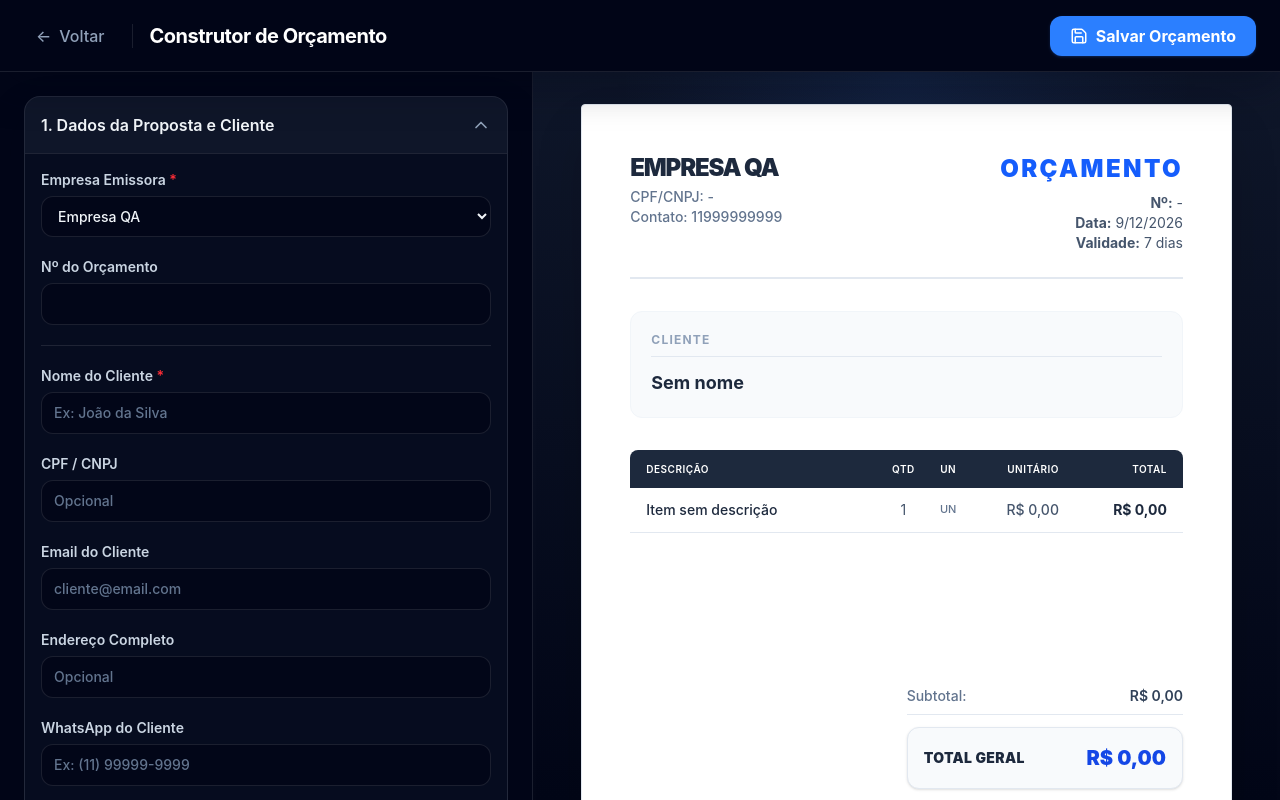
Test: BudgetPage validation flows › blocks saving when quantity is zero
Step 1. Type "Cliente QA" into the field labelled "Nome do Cliente *" → (266, 413), box [41,392,491,434]
(page scrolled)
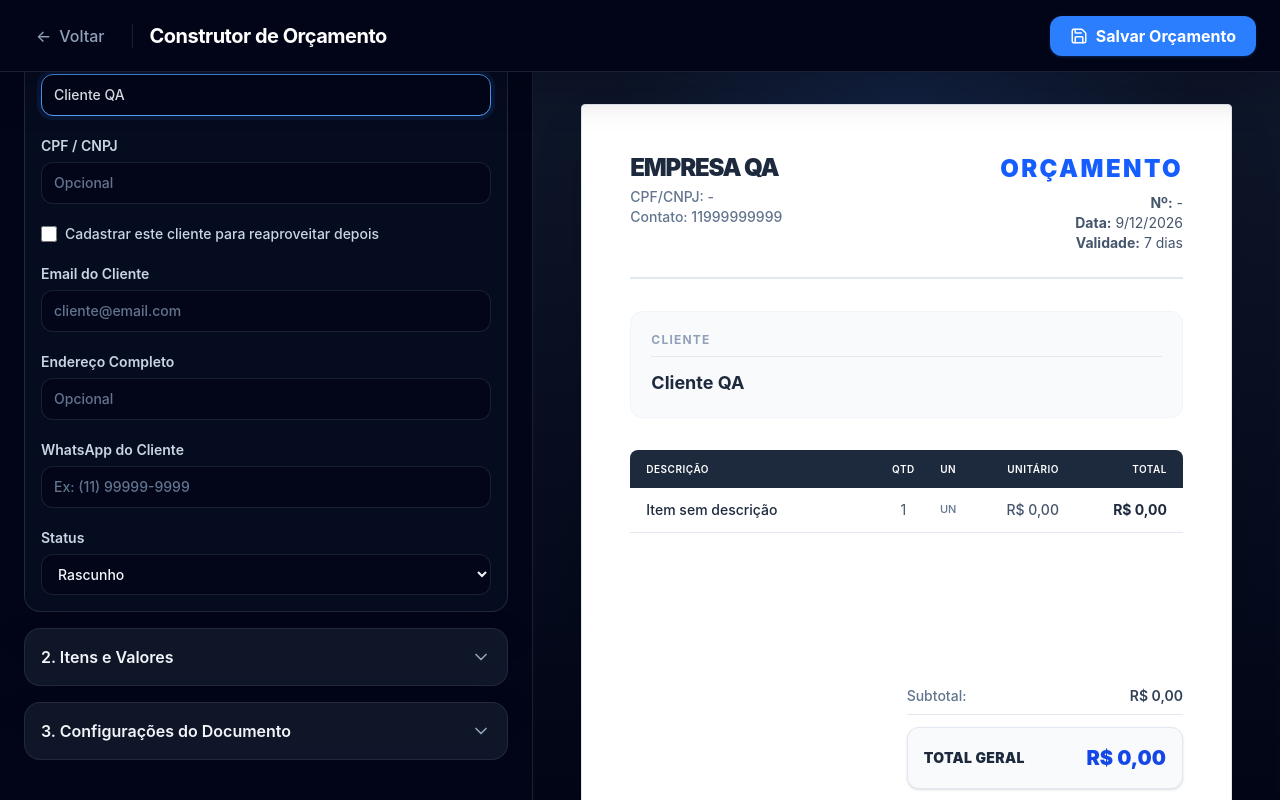
Step 2. Click the button "2. Itens e Valores" → (107, 657), box [25,629,507,685]
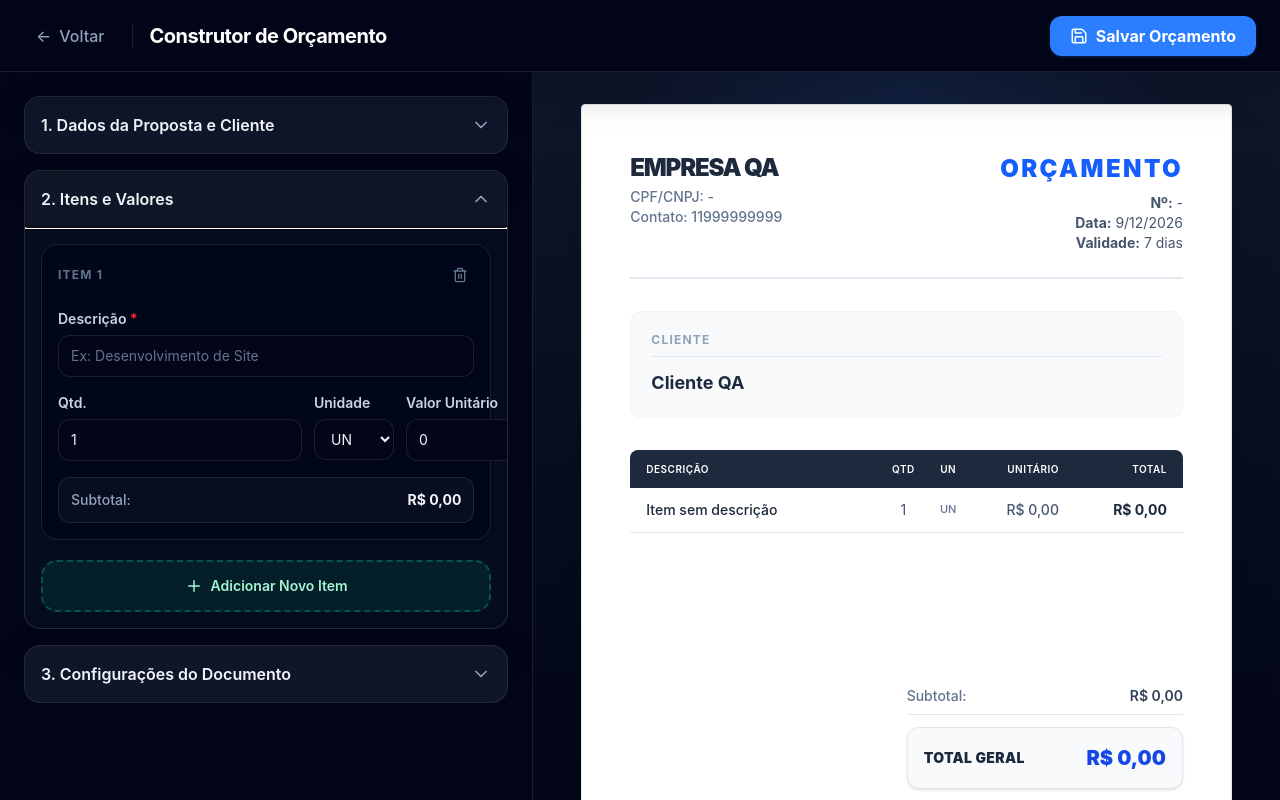
Step 3. Type "Servico essencial" into the field with placeholder "Ex: Desenvolvimento de Site" → (266, 356), box [58,335,474,377]
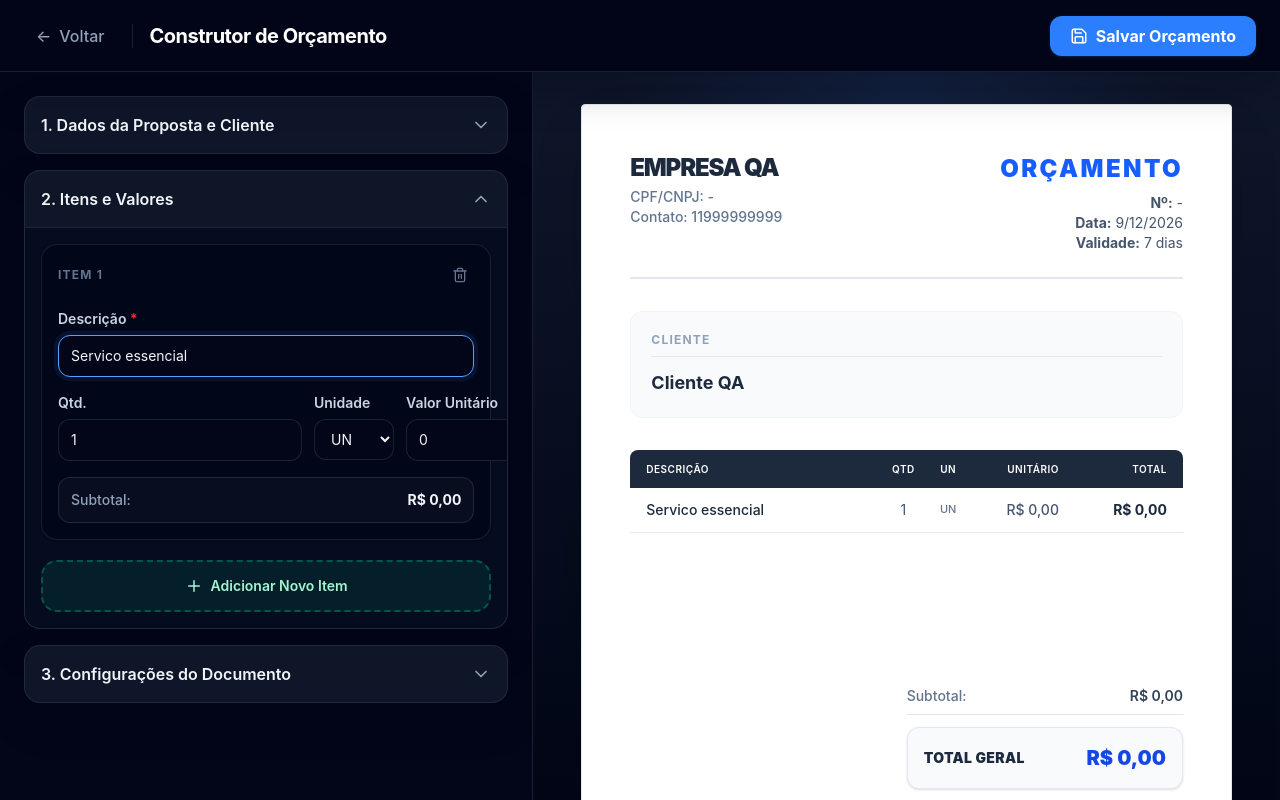
Step 4. Replace the text in the number field labelled "Qtd." with "0" → (180, 440), box [58,419,302,461]
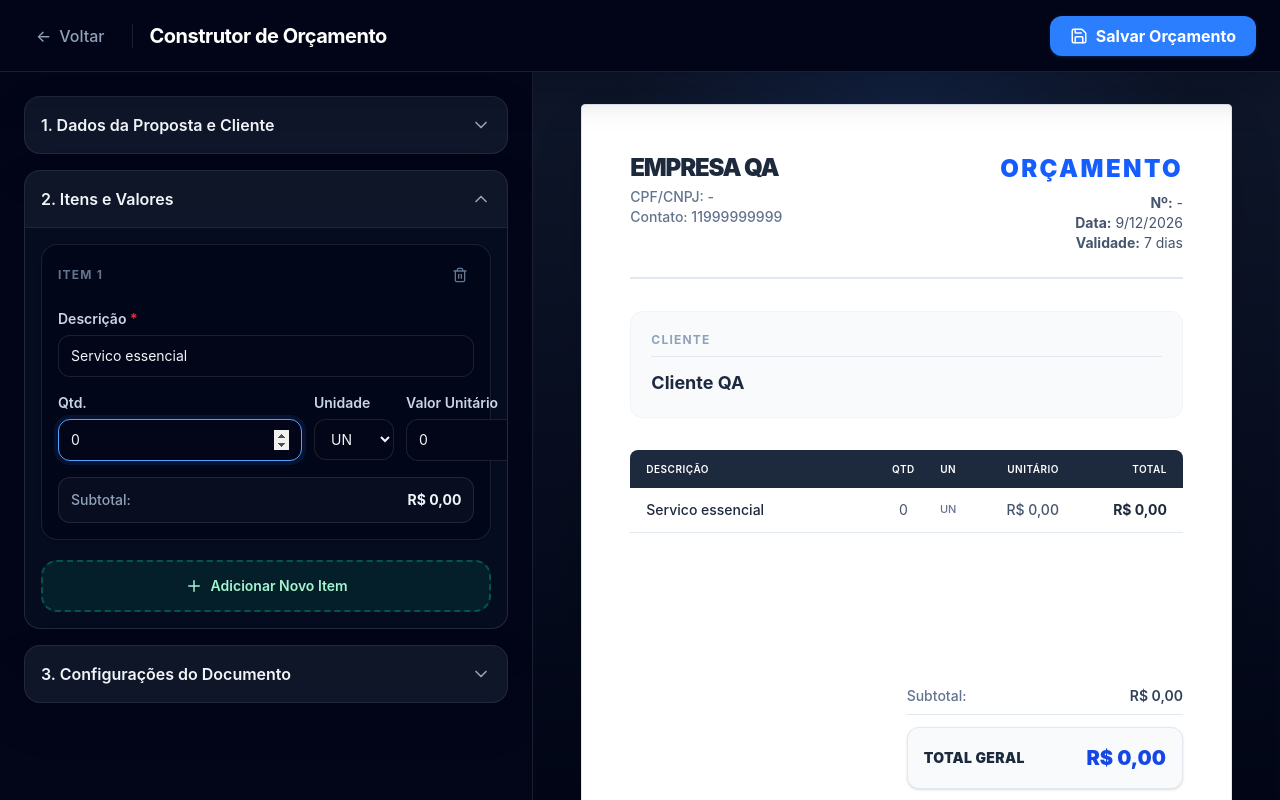
Step 5. Click the button "Salvar Orçamento" → (1153, 36), box [1050,16,1256,56]
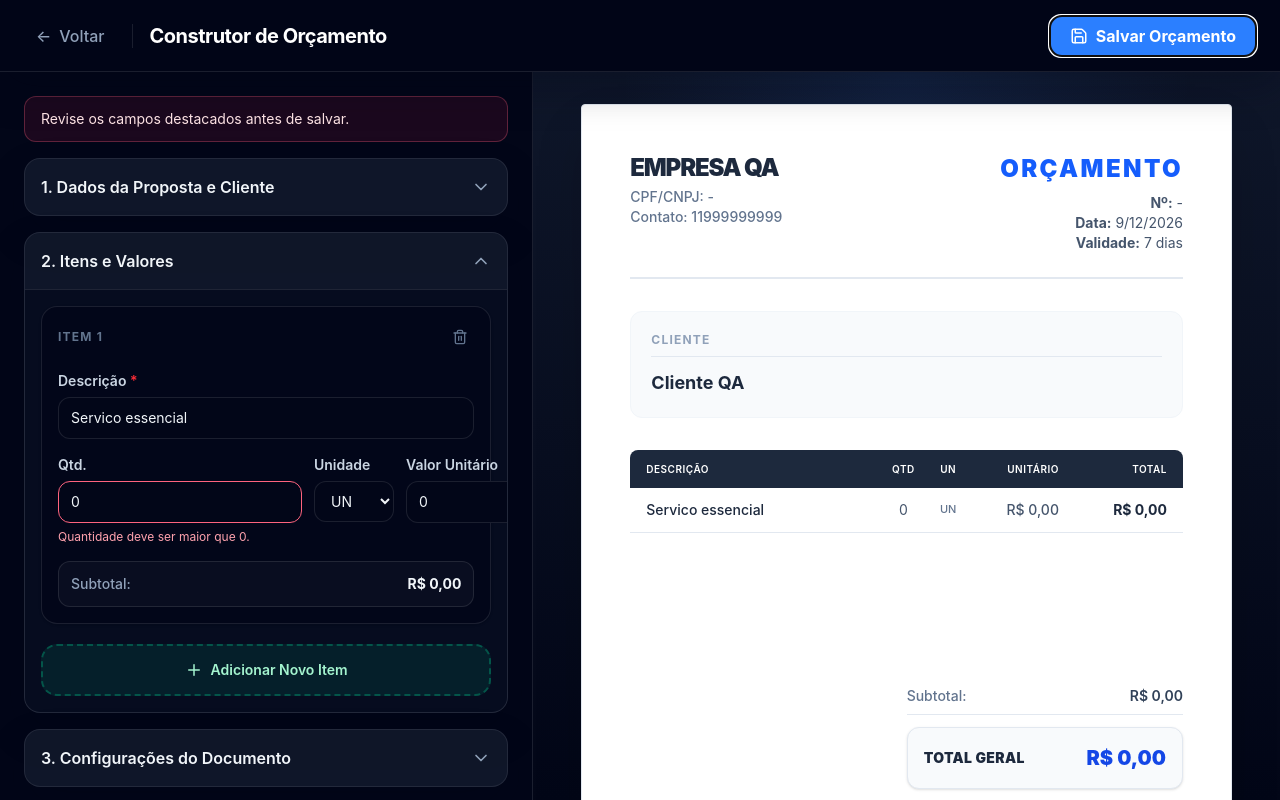
Expected: the text "Quantidade deve ser maior que 0." is shown, [58,529,250,544]
